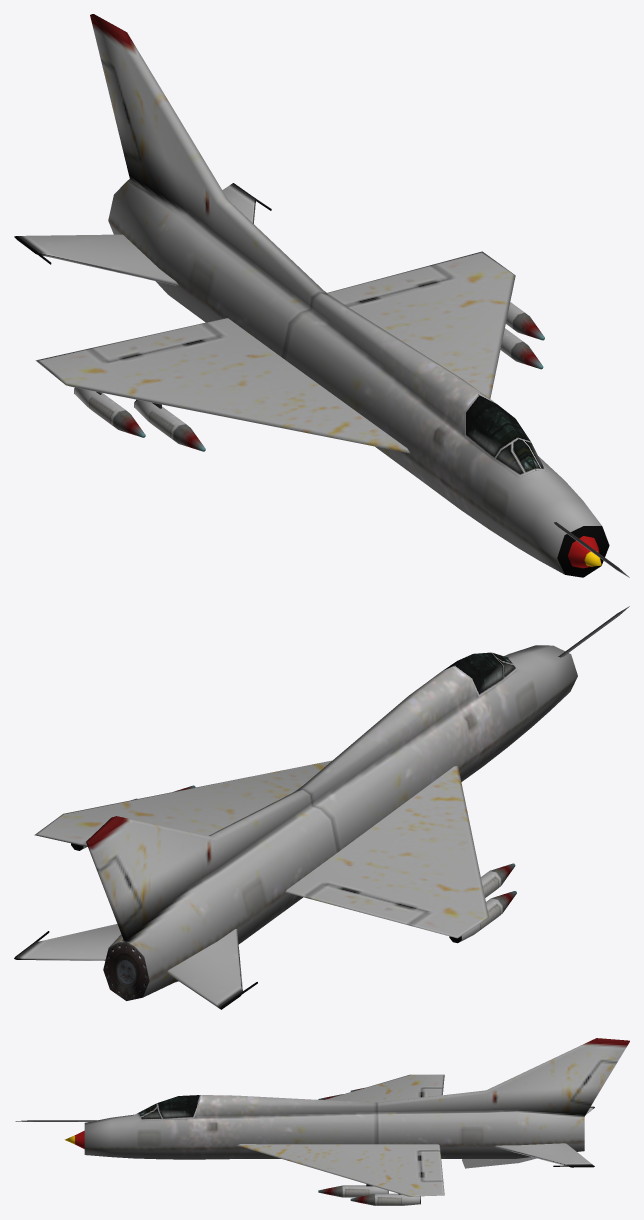
The model's file is Mig21.FBX.
3 views of the same model, one above another, from view 1: azimuth 30°, elevation 25°; view 2: azimuth 150°, elevation 25°; view 3: azimuth 270°, elevation 25° (orthographic). The views are drawn at different scales.
Parts seen in each view (by area): view 1: headusOBJexport001; view 2: headusOBJexport001; view 3: headusOBJexport001.
Part boxes in pixels (x1,y1,x2,y2): headusOBJexport001: (14,14,629,577); headusOBJexport001: (14,606,629,1009); headusOBJexport001: (15,1038,629,1205).
Bounding box in the file's own units: 270 × 135 × 576.
